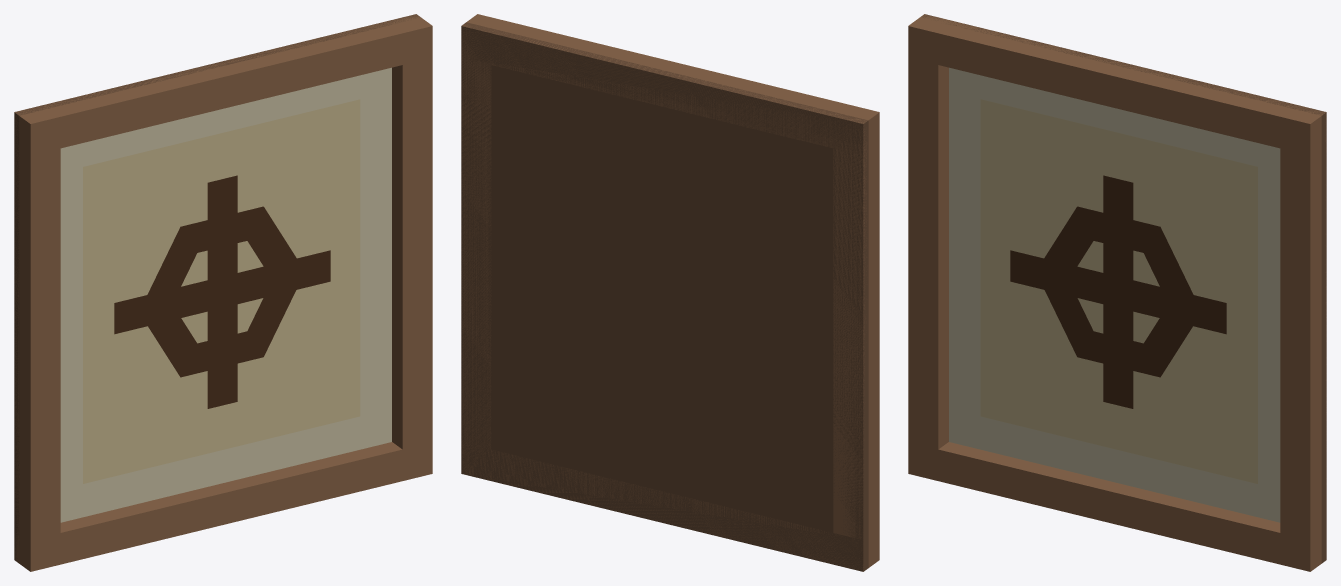
The model's file is picture-frame-29.glb.
3 renders of one model, left to right at view 1: azimuth 30°, elevation 25°; view 2: azimuth 150°, elevation 25°; view 3: azimuth 330°, elevation 25°, orthographic.
Visible parts, largest first — view 1: picture_frame_29; view 2: picture_frame_29; view 3: picture_frame_29.
Boxes of the visible parts, bbox=[...] form: picture_frame_29: bbox=[14, 14, 432, 571]; picture_frame_29: bbox=[461, 14, 879, 571]; picture_frame_29: bbox=[908, 14, 1326, 571].
Size of the model in its own units: 0.5452 by 0.58 by 0.0384.
